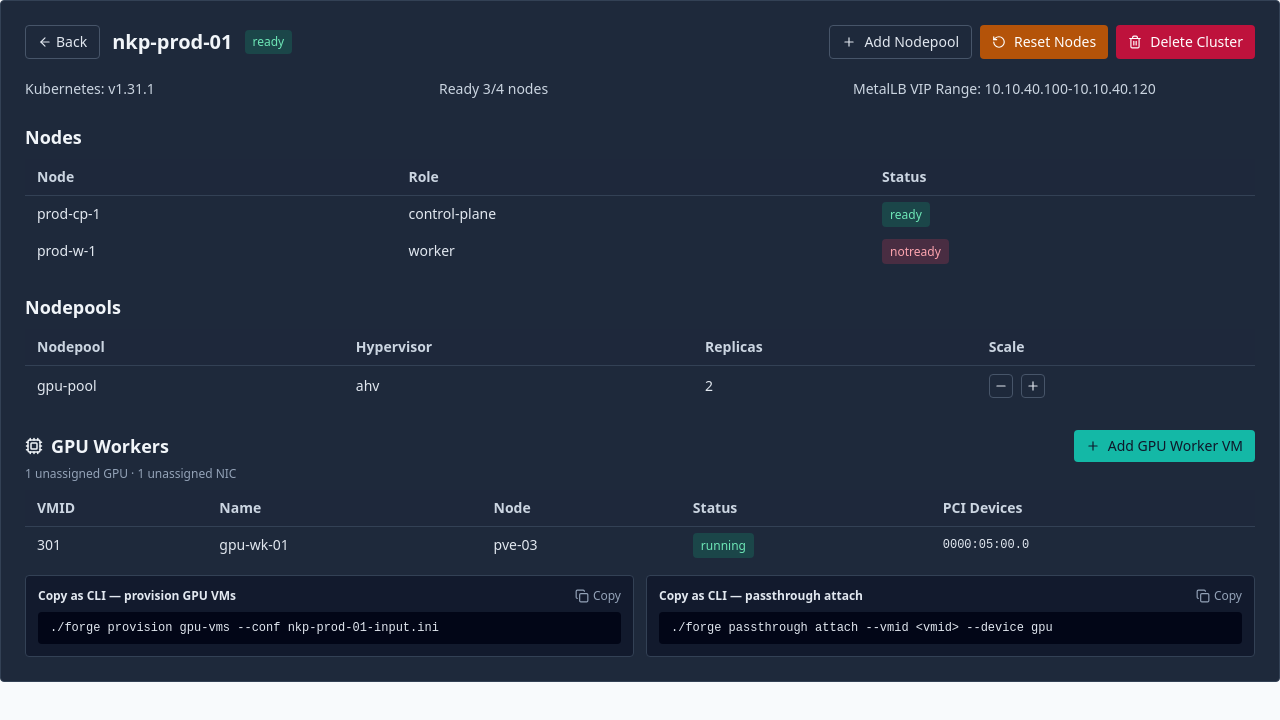
ClusterDetailPage › GPU workers › Add GPU Worker VM modal provisions with the selected unassigned BDF
Expected: the text with test id "text-gpu-capacity" shows "1 unassigned GPU", [25,465,236,482]
Step 1. Click the button with test id "btn-add-gpu-worker" → point(1164, 446), box [1074,430,1255,462]
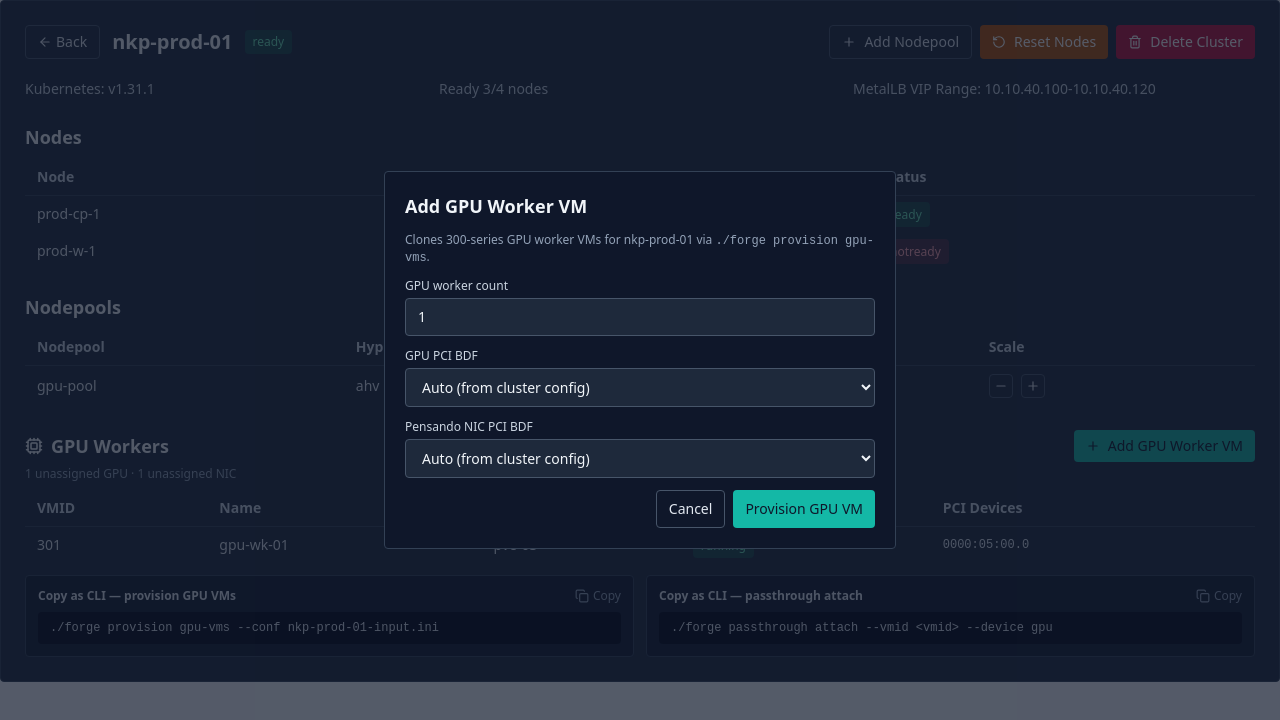
Now the form with test id "modal-provision-gpu-vm" is shown, box [384,171,896,549]
Step 2. Select "0000:65:00.0 — AMD" in the dropdown with test id "select-provision-gpu-bdf" → point(640, 388), box [405,368,875,407]
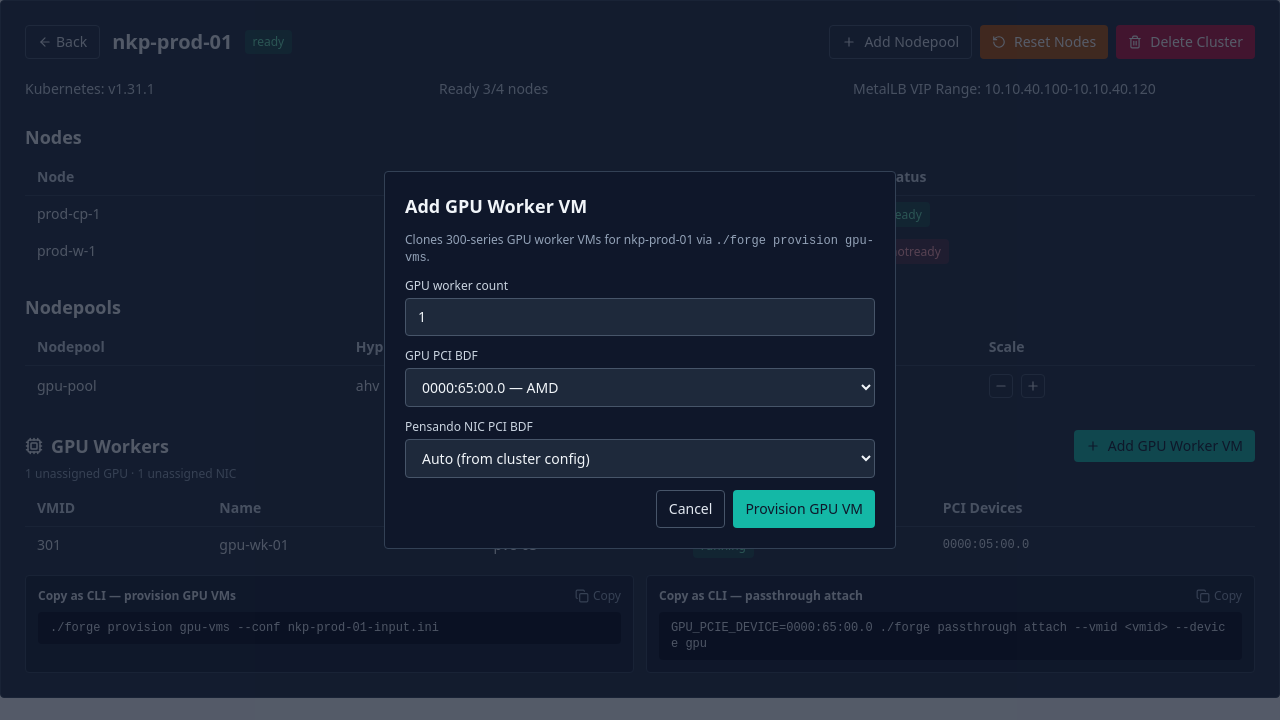
Step 3. Select "0000:67:00.0 — Pensando" in the dropdown with test id "select-provision-nic-bdf" → point(640, 458), box [405,439,875,478]
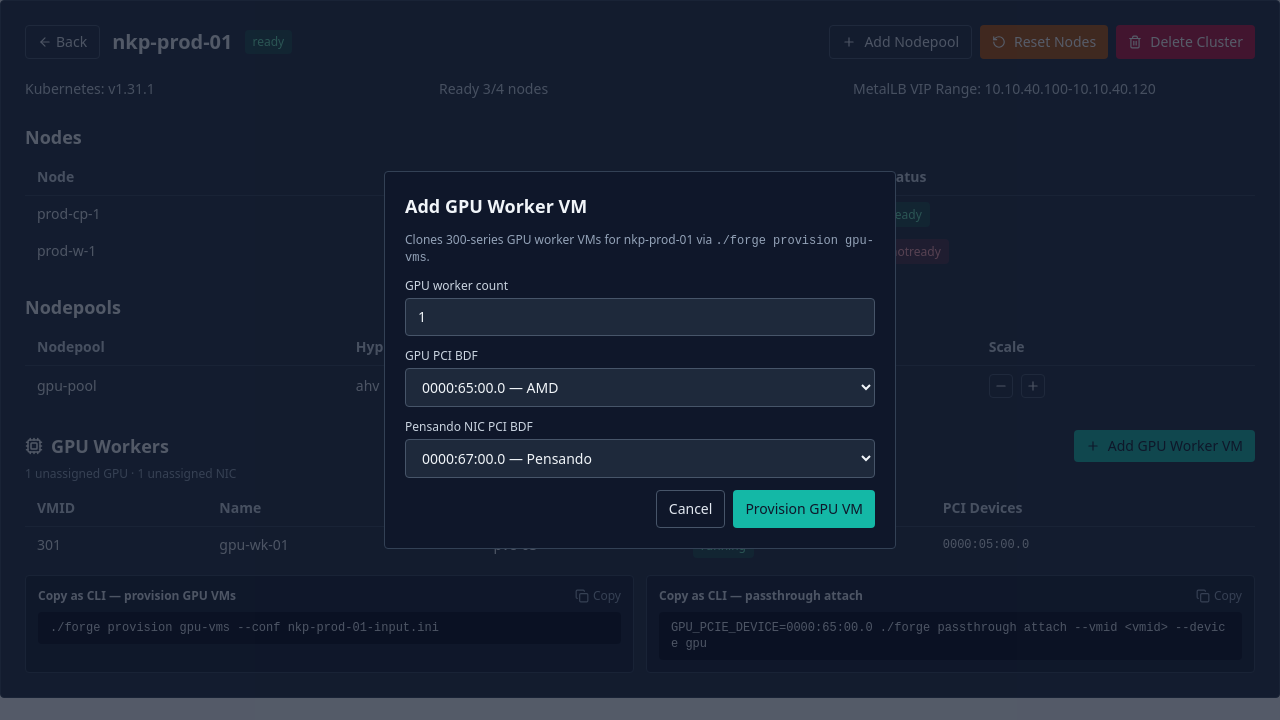
Step 4. Replace the text in the number field with test id "input-provision-gpu-count" with "2" → point(640, 317), box [405,298,875,336]
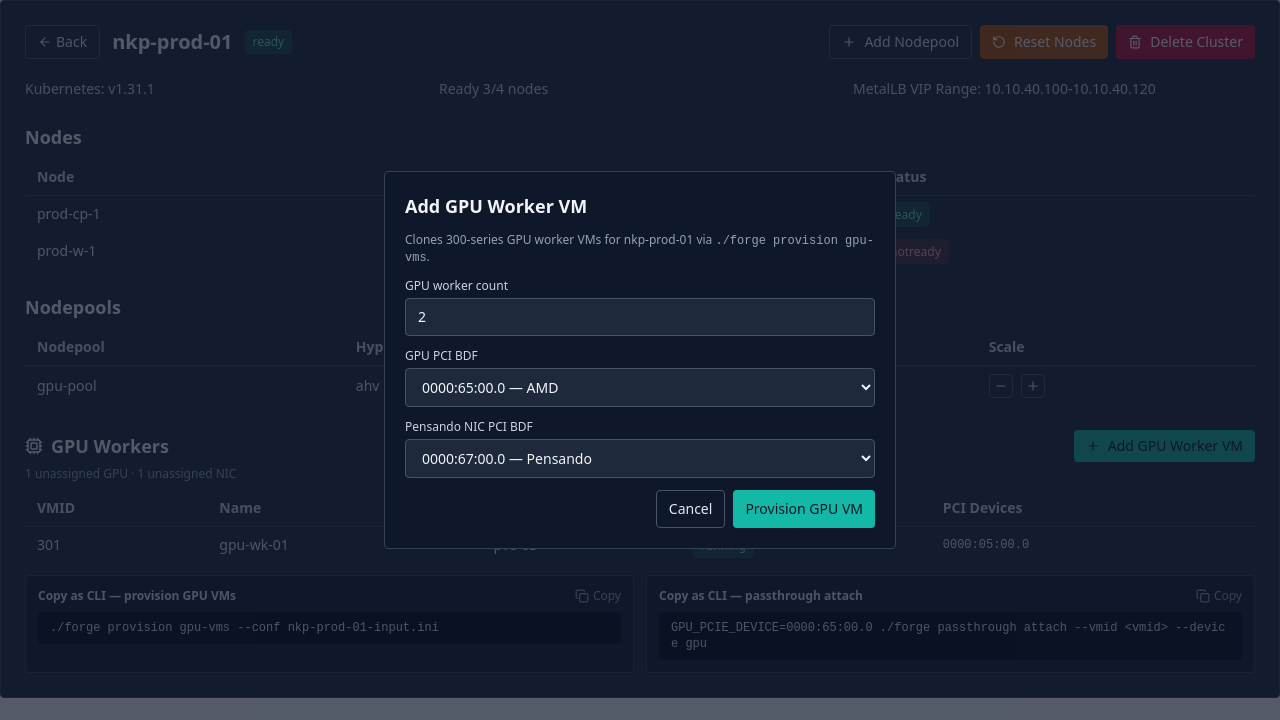
Step 5. Click the button with test id "btn-submit-provision-gpu" → point(804, 509), box [733,490,875,528]
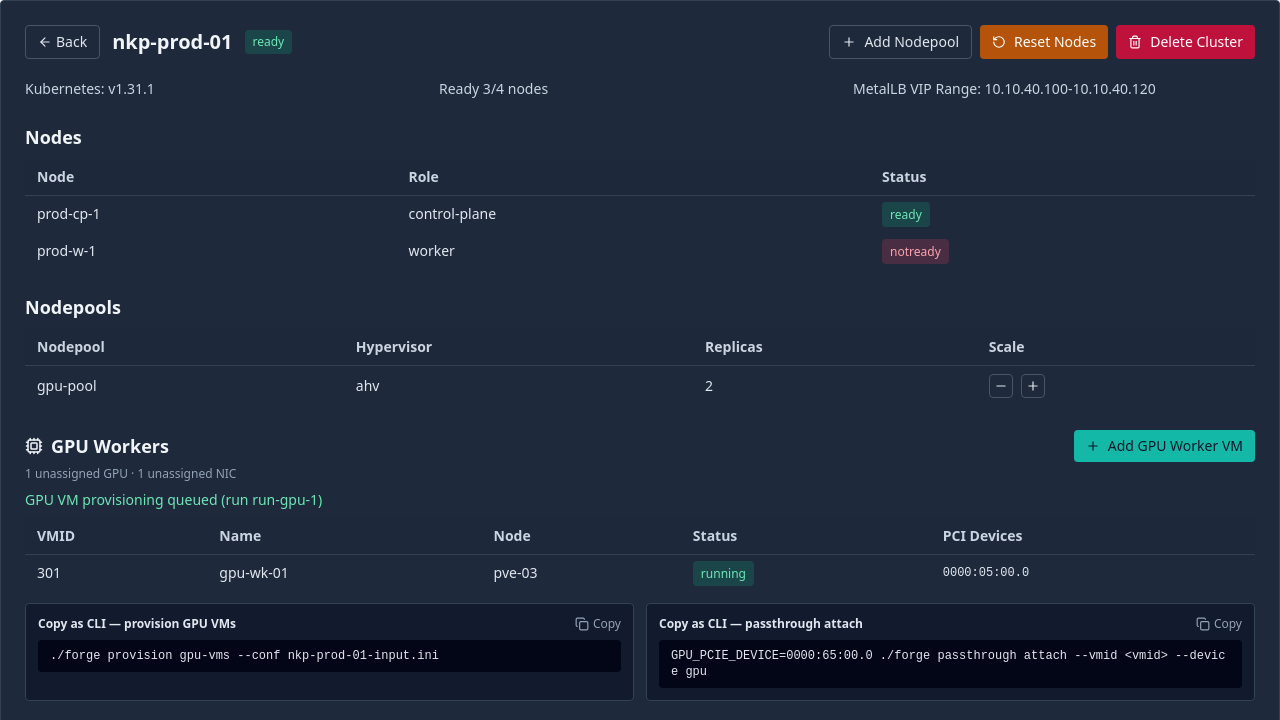
Now the text with test id "gpu-provision-notice" shows "run-gpu-1", box [25,490,322,509]
Now the form with test id "modal-provision-gpu-vm" is gone
